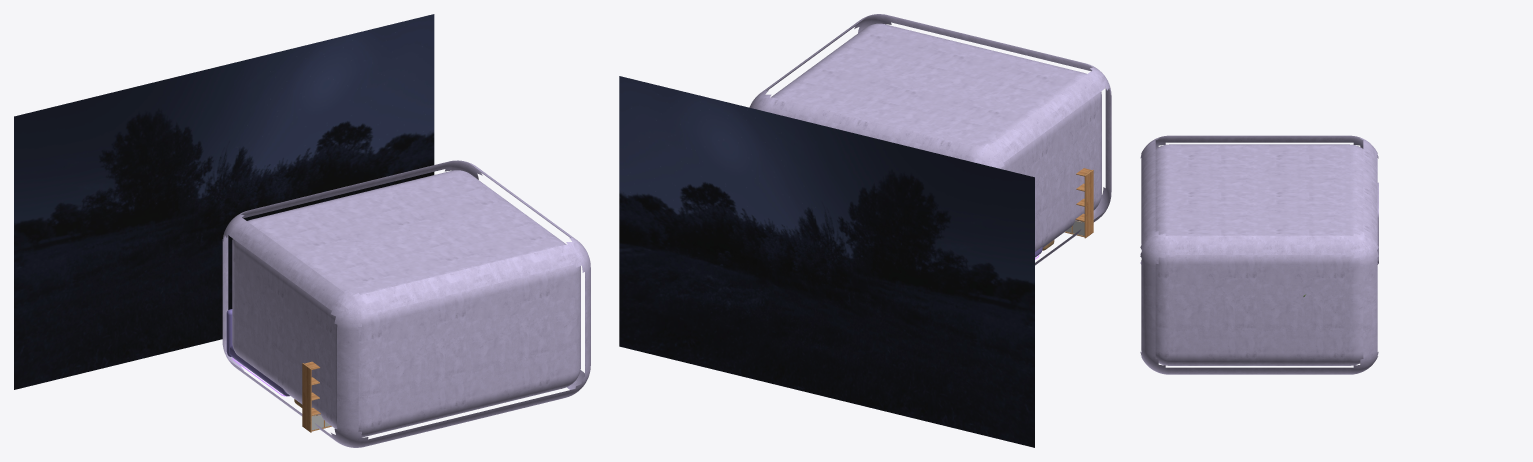
The model's file is room.glb.
3 views of the same model, side by side, from view 1: azimuth 30°, elevation 25°; view 2: azimuth 150°, elevation 25°; view 3: azimuth 270°, elevation 25° (orthographic). The views are drawn at different scales.
Parts seen in each view (by area): view 1: Sky_Backdrop, Room_Shell, wooden_display_shelves_01; view 2: Sky_Backdrop, Room_Shell, wooden_display_shelves_01; view 3: Room_Shell.
Part boxes in pixels (left/top/right/bottom): Sky_Backdrop: left=14, top=14, right=434, bottom=389; Room_Shell: left=222, top=160, right=590, bottom=447; wooden_display_shelves_01: left=302, top=361, right=331, bottom=432; Sky_Backdrop: left=619, top=76, right=1034, bottom=447; Room_Shell: left=749, top=14, right=1111, bottom=265; wooden_display_shelves_01: left=1064, top=168, right=1093, bottom=238; Room_Shell: left=1140, top=135, right=1378, bottom=374.
Bounding box in the file's own units: 9 × 5.6 × 7.74.
Materials: 45 (37 with a texture image).
